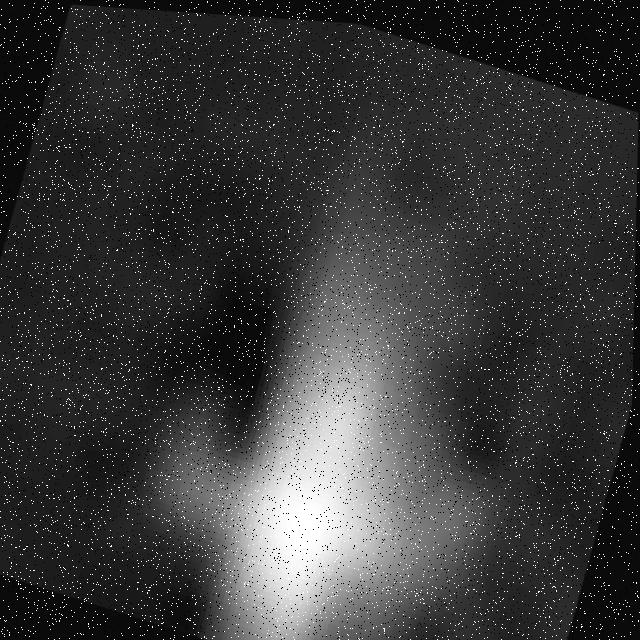person: (146, 152, 543, 640)
